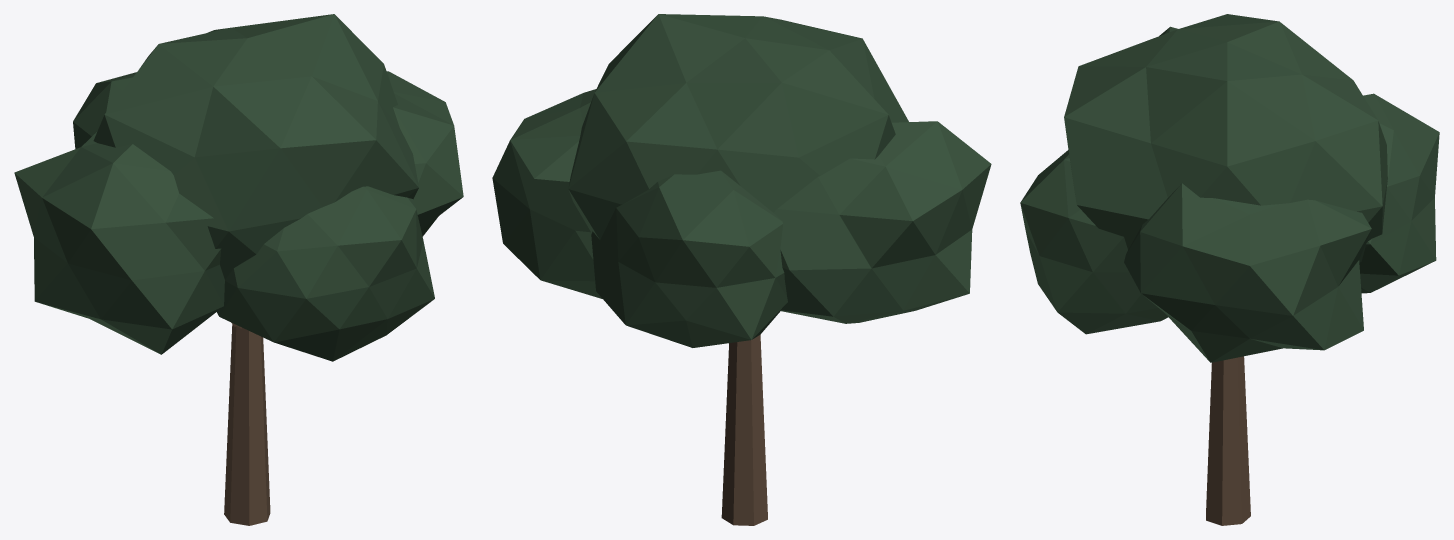
The model's file is tree.glb.
3 renders of one model, left to right at view 1: azimuth 30°, elevation 25°; view 2: azimuth 150°, elevation 25°; view 3: azimuth 270°, elevation 25°, orthographic.
Visible parts, largest first — view 1: tree; view 2: tree; view 3: tree.
Part boxes in pixels (left/top/right/bottom): tree: left=14, top=14, right=463, bottom=525; tree: left=492, top=14, right=991, bottom=525; tree: left=1020, top=14, right=1439, bottom=525.
Bounding box in the file's own units: 8.91 × 9.34 × 7.44.
